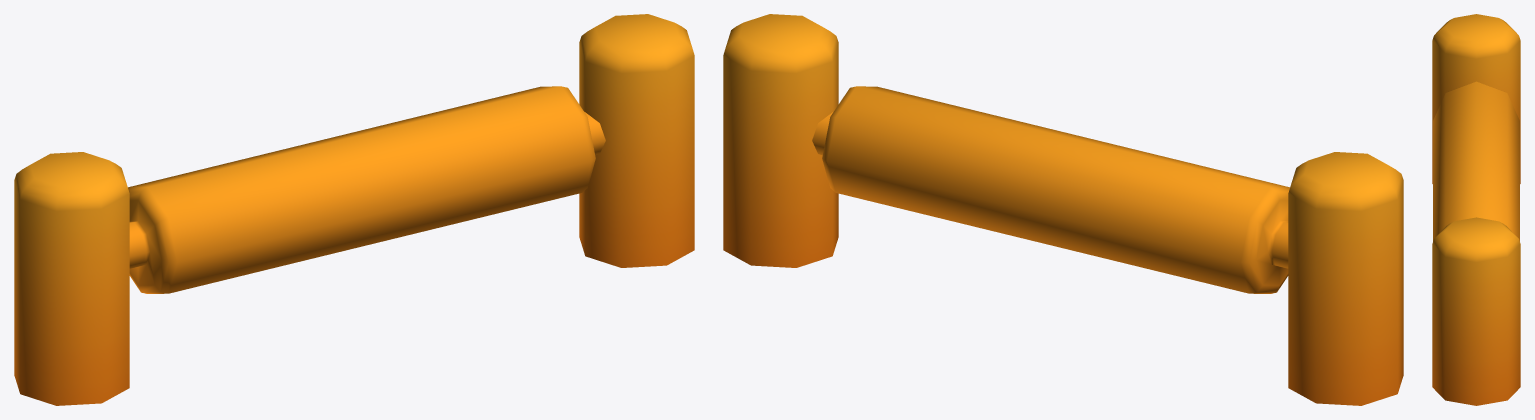
Rendered from Obstacle_Barricade_01.fbx.
3 views of the same model, side by side, from view 1: azimuth 30°, elevation 25°; view 2: azimuth 150°, elevation 25°; view 3: azimuth 270°, elevation 25° (orthographic). The views are drawn at different scales.
Visible parts, largest first — view 1: Obstacle_Barricade_01; view 2: Obstacle_Barricade_01; view 3: Obstacle_Barricade_01.
Boxes of the visible parts, box(x1,y1,x2,y2) form: Obstacle_Barricade_01: box(14, 14, 694, 405); Obstacle_Barricade_01: box(723, 14, 1403, 405); Obstacle_Barricade_01: box(1432, 14, 1520, 405).
Bounding box in the file's own units: 181 × 54.87 × 28.01.
